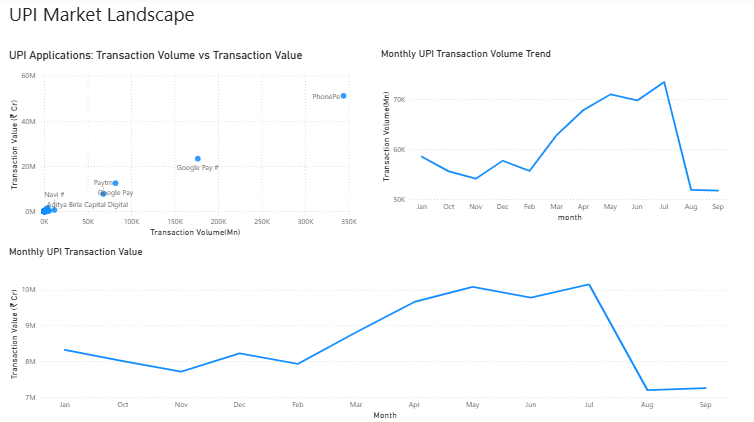

The dashboard page shown, as its layout file describes it:
{"tool":"powerbi","page":{"name":"Page 2","canvas":[1280,720],"ordinal":1},"visuals":[{"type":"textbox","box":[10.2,0,349.7,56],"z":0},{"type":"scatterChart","title":"UPI Applications: Transaction Volume vs Transaction Value","fields":{"X":["Sum(upi_apps_historical.total_volume_mn)"],"Y":["Sum(upi_apps_historical.total_value_cr)"],"Category":["upi_apps_historical.application_name"]},"box":[10.2,86.6,599.3,324.2],"z":1000},{"type":"lineChart","title":"Monthly UPI Transaction Volume Trend","fields":{"Y":["Sum(upi_apps_historical.total_volume_mn)"],"Category":["upi_apps_historical.month"]},"box":[640,86.6,599,299],"z":2000},{"type":"lineChart","title":"Monthly UPI Transaction Value","fields":{"Category":["upi_apps_historical.month"],"Y":["Sum(upi_apps_historical.total_value_cr)"]},"box":[10.2,421,1229.1,298.8],"z":3000}]}

Visuals, with their boxes in screenshot pixels (x1, y1, x2, y2), scaled from the page's 1280x720 canvas onto the 754x422 screenshot:
textbox: detection(6, 0, 212, 33)
"UPI Applications: Transaction Volume vs Transaction Value" scatterChart: detection(6, 51, 359, 241)
"Monthly UPI Transaction Volume Trend" lineChart: detection(377, 51, 730, 226)
"Monthly UPI Transaction Value" lineChart: detection(6, 247, 730, 421)
